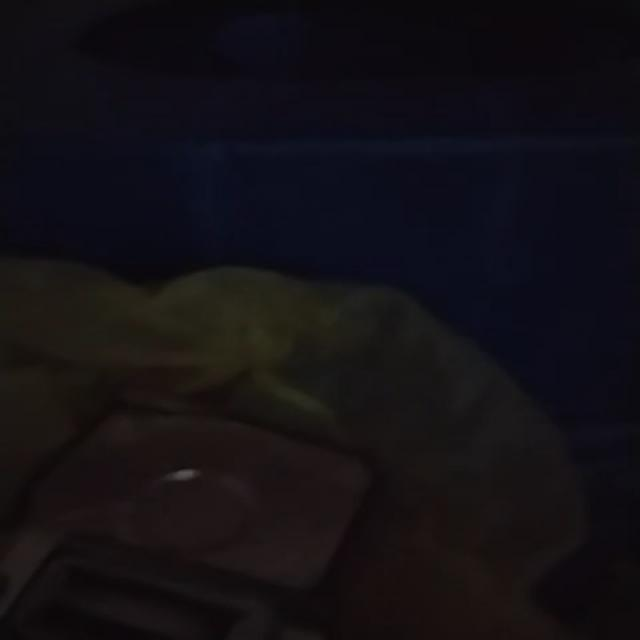bin: (2, 0, 640, 640)
metal: (3, 412, 369, 640)
